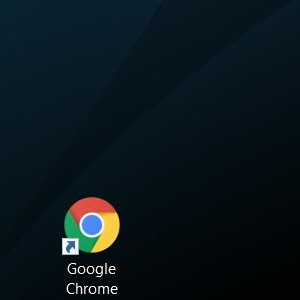chrome: (61, 197, 119, 255)
